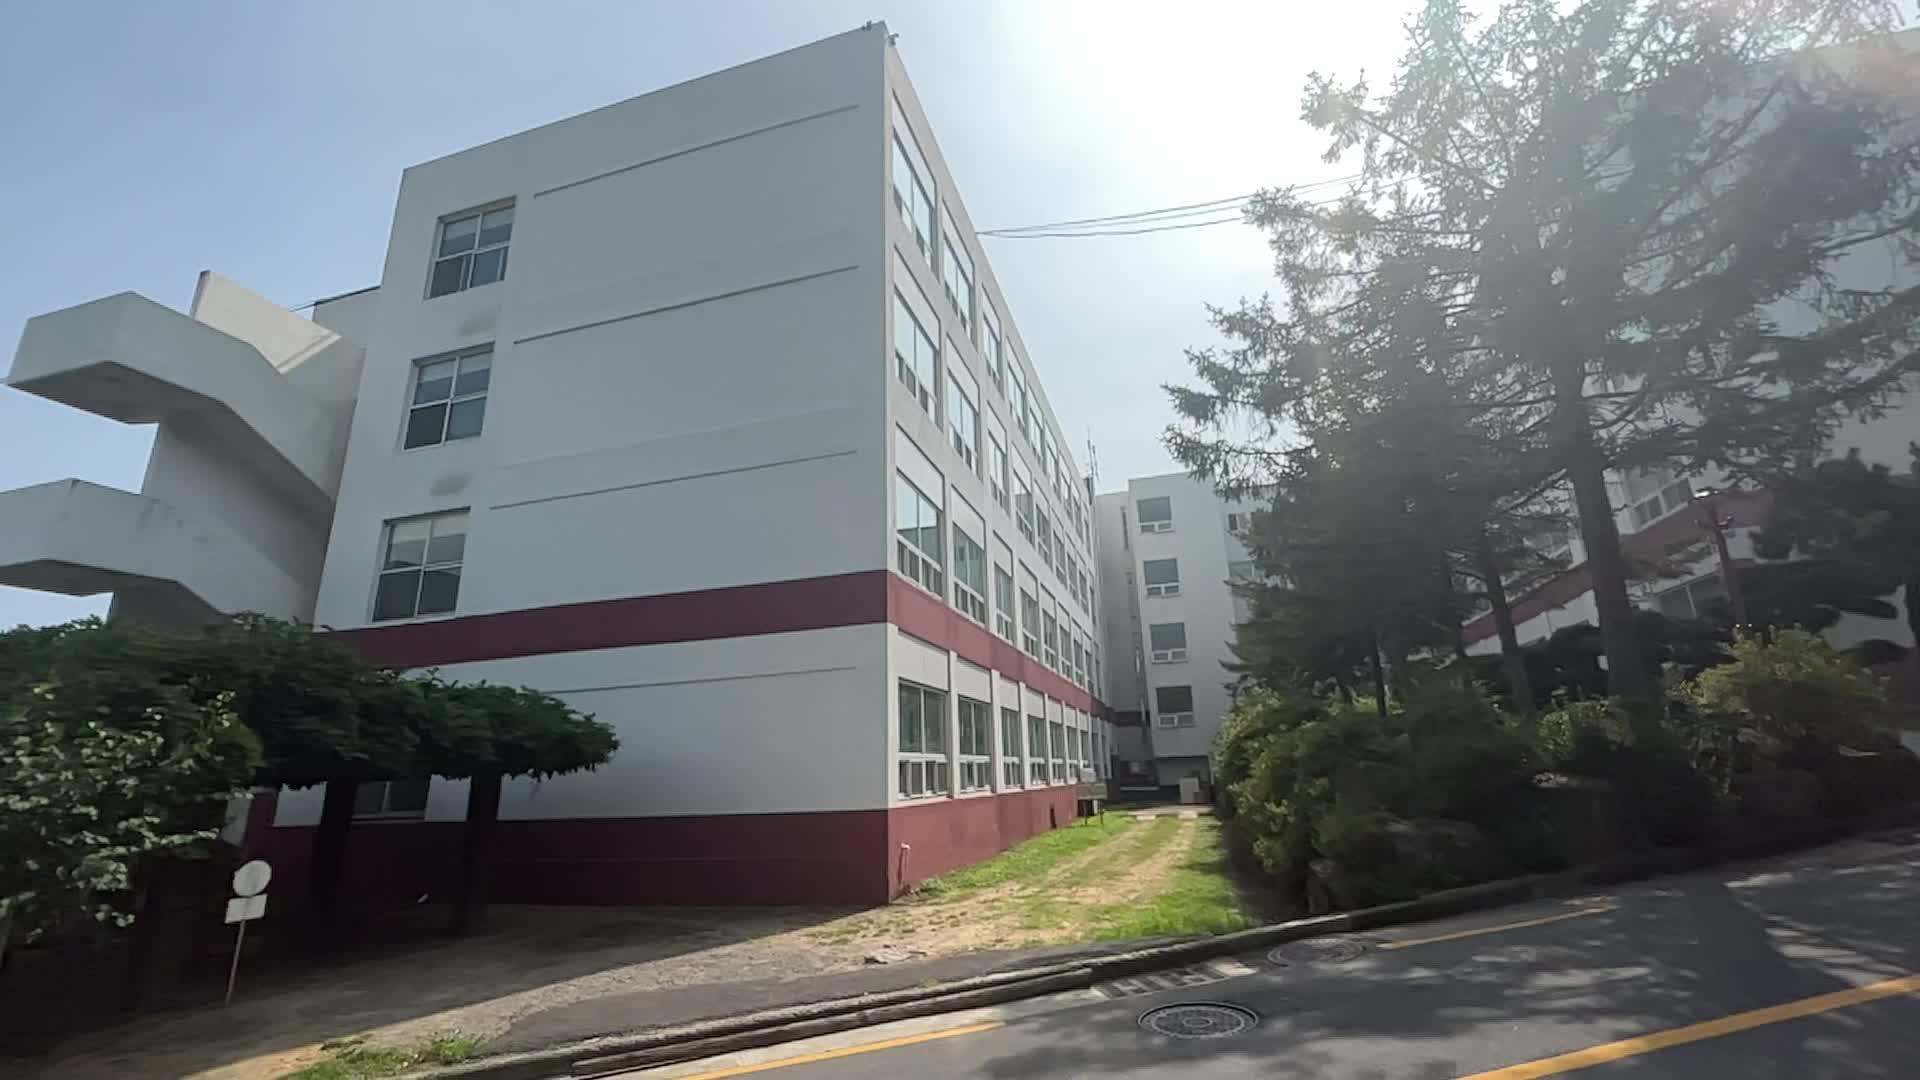building: (96, 46, 1167, 864)
